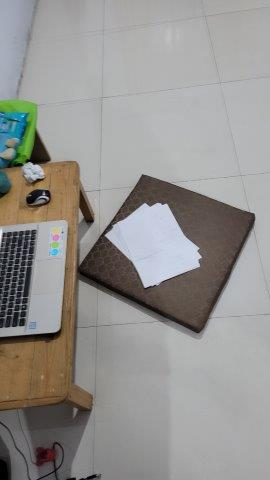kertas: (100, 199, 206, 287)
